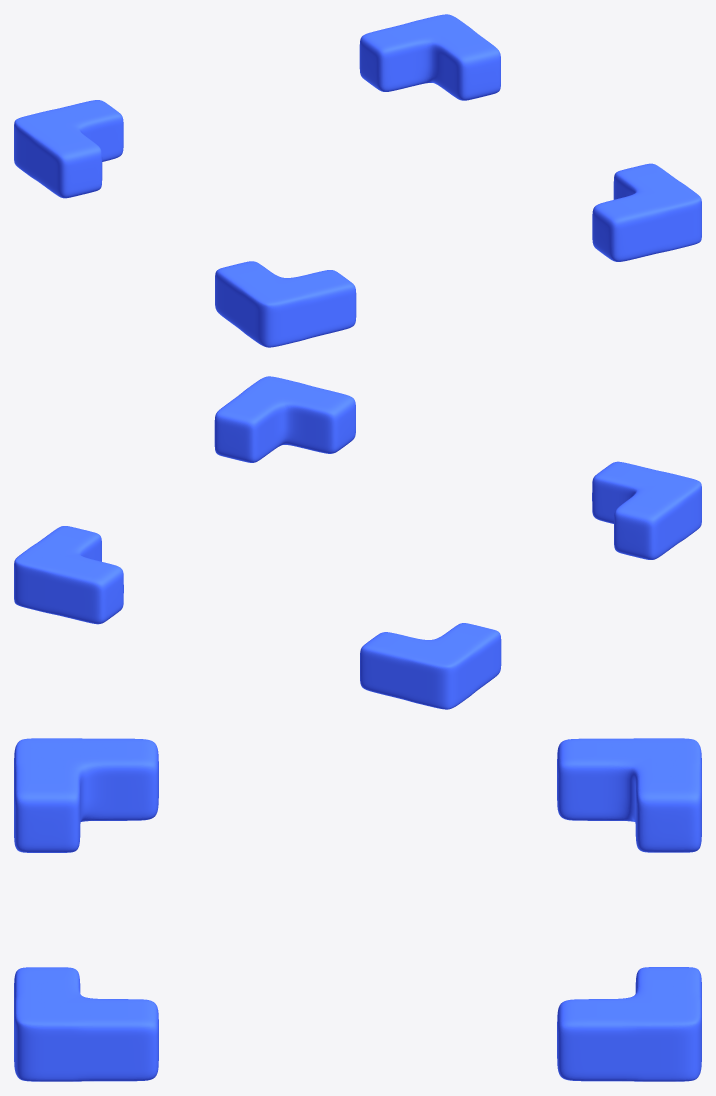
The model's file is PlayerGridIndexDisplayer.fbx.
The picture shows the model from 3 angles, top to bottom: view 1: azimuth 30°, elevation 25°; view 2: azimuth 150°, elevation 25°; view 3: azimuth 270°, elevation 25°; orthographic projection. The views are drawn at different scales.
Visible parts, largest first — view 1: IdxDisPly_4, IdxDisPly_1, IdxDisPly_2, IdxDisPly_3; view 2: IdxDisPly_2, IdxDisPly_3, IdxDisPly_1, IdxDisPly_4; view 3: IdxDisPly_3, IdxDisPly_1, IdxDisPly_2, IdxDisPly_4.
Part boxes in pixels (bbox=[...]): IdxDisPly_4: bbox=[215, 261, 356, 347]; IdxDisPly_1: bbox=[359, 14, 500, 100]; IdxDisPly_2: bbox=[14, 100, 123, 198]; IdxDisPly_3: bbox=[592, 163, 701, 261]; IdxDisPly_2: bbox=[360, 623, 501, 709]; IdxDisPly_3: bbox=[214, 376, 355, 462]; IdxDisPly_1: bbox=[14, 526, 123, 624]; IdxDisPly_4: bbox=[592, 461, 701, 559]; IdxDisPly_3: bbox=[14, 967, 158, 1081]; IdxDisPly_1: bbox=[557, 967, 701, 1081]; IdxDisPly_2: bbox=[557, 738, 701, 852]; IdxDisPly_4: bbox=[14, 738, 158, 852].
Size of the model in its own units: 155 by 15.04 by 156.
